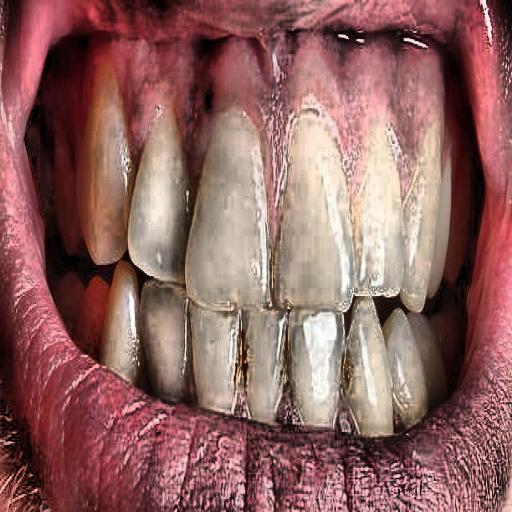Gingivitis: (68, 26, 327, 202)
